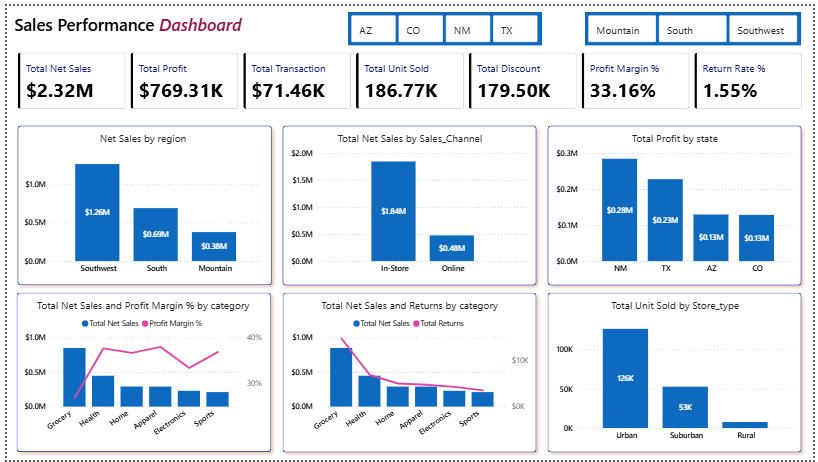

The dashboard page shown, as its layout file describes it:
{"tool":"powerbi","page":{"name":"Overview 1","canvas":[1280,720],"ordinal":0},"visuals":[{"type":"shape","box":[7.2,181.6,421.3,271.1],"z":0},{"type":"shape","box":[428.6,181,420.6,271.4],"z":1000},{"type":"shape","box":[849.2,181,420.6,271.4],"z":2000},{"type":"shape","box":[5.8,446,421.9,270.7],"z":3000},{"type":"shape","box":[428.6,446,420.6,271.4],"z":4000},{"type":"shape","box":[849.2,446,420.6,271.4],"z":5000},{"type":"textbox","box":[6.3,6.3,422.2,50.8],"z":6000},{"type":"cardVisual","fields":{"Data":["_Measures.Total Net Sales","_Measures.Total Profit","_Measures.Total Transaction","_Measures.Total Unit Sold","_Measures.Total Discount","_Measures.Profit Margin %","_Measures.Return Rate %"]},"box":[0,57.7,1280,124],"z":7000},{"type":"columnChart","title":"Net Sales by region","fields":{"Y":["_Measures.Total Net Sales"],"Category":["store_performance.region"]},"box":[22.2,198.4,387.3,236.5],"z":8000},{"type":"columnChart","fields":{"Y":["_Measures.Total Net Sales"],"Category":["store_performance.Sales_Channel"]},"box":[446,198.4,387.3,236.5],"z":9000},{"type":"columnChart","fields":{"Y":["_Measures.Total Profit"],"Category":["store_performance.state"]},"box":[866.7,198.4,387.3,236.5],"z":10000},{"type":"lineClusteredColumnComboChart","fields":{"Category":["store_performance.category"],"Y":["_Measures.Total Net Sales"],"Y2":["_Measures.Profit Margin %"]},"box":[21.6,462.7,387.7,236.4],"z":11000},{"type":"lineClusteredColumnComboChart","title":"Total Net Sales and Returns by category","fields":{"Category":["store_performance.category"],"Y":["_Measures.Total Net Sales"],"Y2":["_Measures.Total Returns"]},"box":[445.4,462.7,386.3,236.4],"z":12000},{"type":"columnChart","fields":{"Y":["_Measures.Total Unit Sold"],"Category":["store_performance.Store_type"]},"box":[866.3,462.7,387.7,236.4],"z":13000},{"type":"advancedSlicerVisual","fields":{"Values":["store_performance.region"]},"box":[918.2,10.1,343.1,53.3],"z":14000},{"type":"advancedSlicerVisual","fields":{"Values":["store_performance.state"]},"box":[540.5,10.1,308.5,53.3],"z":15000}]}

Visuals, with their boxes in screenshot pixels (x1, y1, x2, y2), scaled from the page's 1280x720 canvas onto the 818x462 screenshot:
shape: select_region(5, 117, 274, 290)
shape: select_region(274, 116, 543, 290)
shape: select_region(543, 116, 811, 290)
shape: select_region(4, 286, 273, 460)
shape: select_region(274, 286, 543, 460)
shape: select_region(543, 286, 811, 460)
textbox: select_region(4, 4, 274, 37)
cardVisual - _Measures.Total Net Sales x _Measures.Total Profit: select_region(0, 37, 817, 117)
"Net Sales by region" columnChart: select_region(14, 127, 262, 279)
columnChart - _Measures.Total Net Sales x store_performance.Sales_Channel: select_region(285, 127, 533, 279)
columnChart - _Measures.Total Profit x store_performance.state: select_region(554, 127, 801, 279)
lineClusteredColumnComboChart - store_performance.category x _Measures.Total Net Sales: select_region(14, 297, 262, 449)
"Total Net Sales and Returns by category" lineClusteredColumnComboChart: select_region(285, 297, 532, 449)
columnChart - _Measures.Total Unit Sold x store_performance.Store_type: select_region(554, 297, 801, 449)
advancedSlicerVisual - store_performance.region: select_region(587, 6, 806, 41)
advancedSlicerVisual - store_performance.state: select_region(345, 6, 543, 41)
